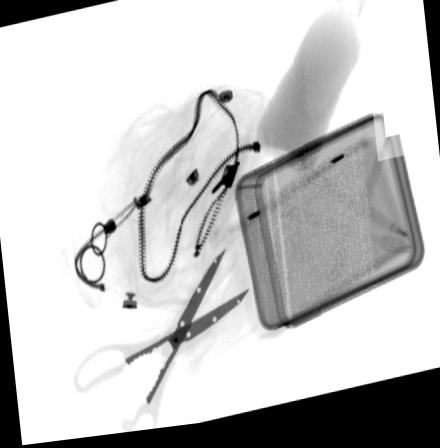Scissors: (83, 254, 252, 435)
